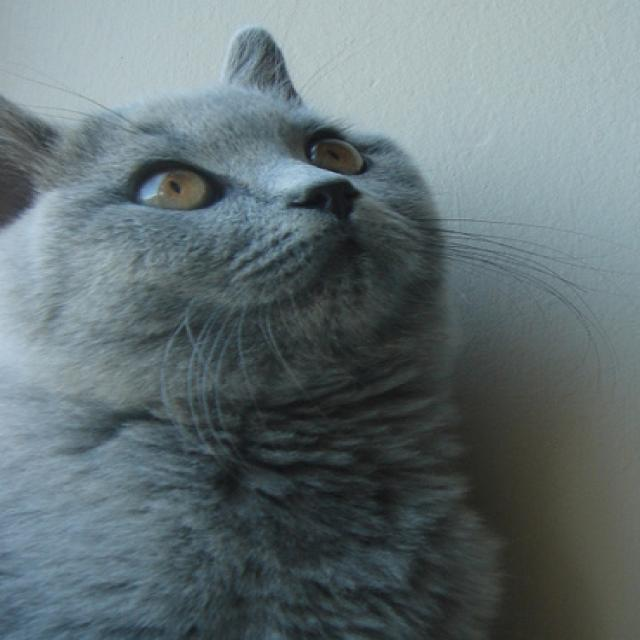British Shorthair: (0, 18, 507, 640)
